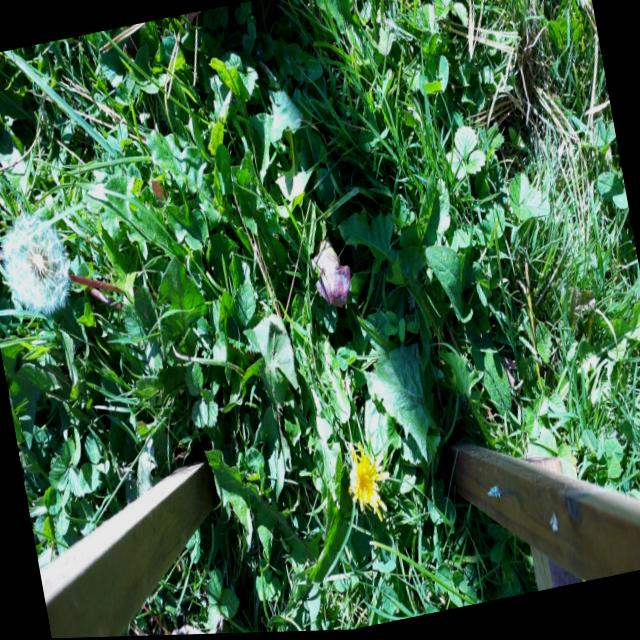base: (108, 271, 138, 315)
